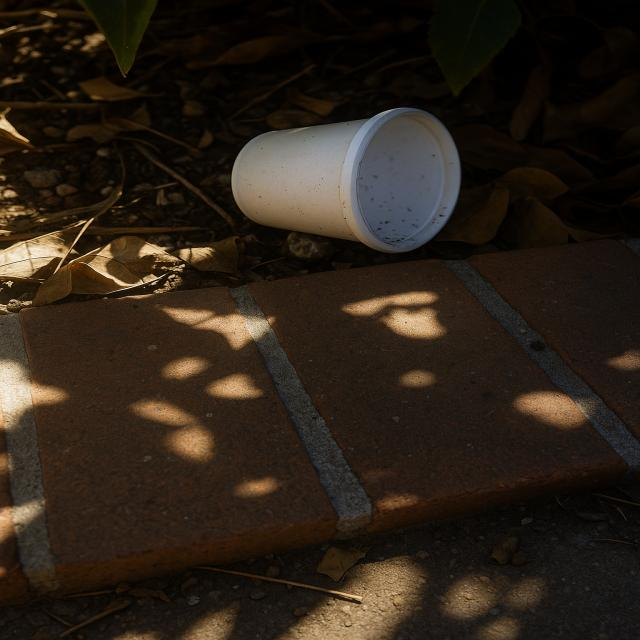paper: (226, 112, 462, 245)
